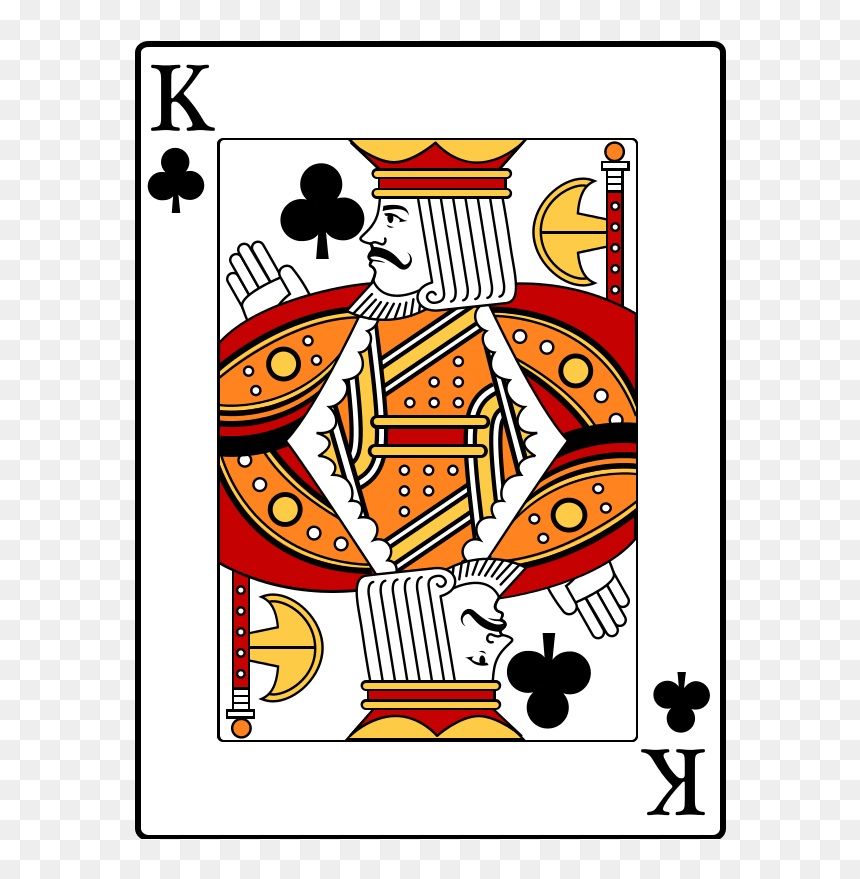king of clubs: (137, 42, 722, 834)
